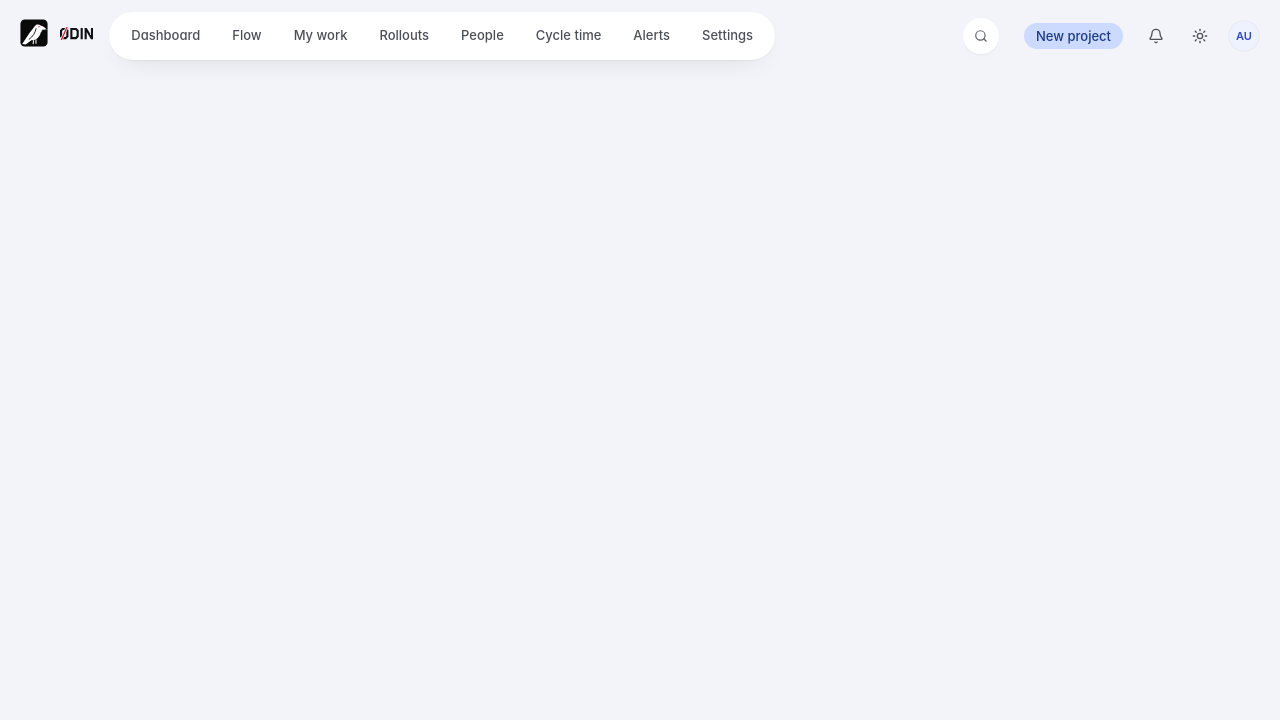
Test: the ? shortcut sheet (B6) › is switched off with the single-key shortcuts, but the account menu still opens it
Type keys "?"
Expected: the dialog "Keyboard shortcuts" is not shown
Click the button with aria-label "Your account" at (1244, 36), box [1228,20,1260,52]
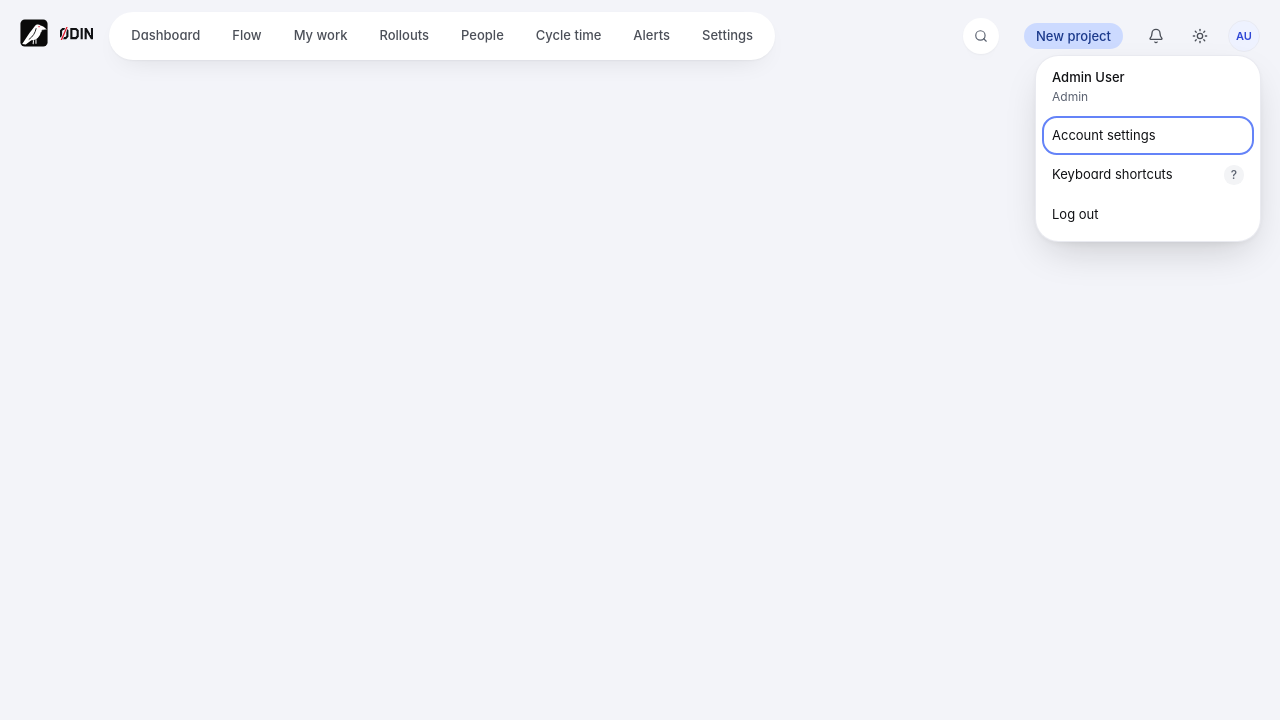
Click the button "Keyboard shortcuts ?" at (1148, 175), box [1044,157,1252,193]
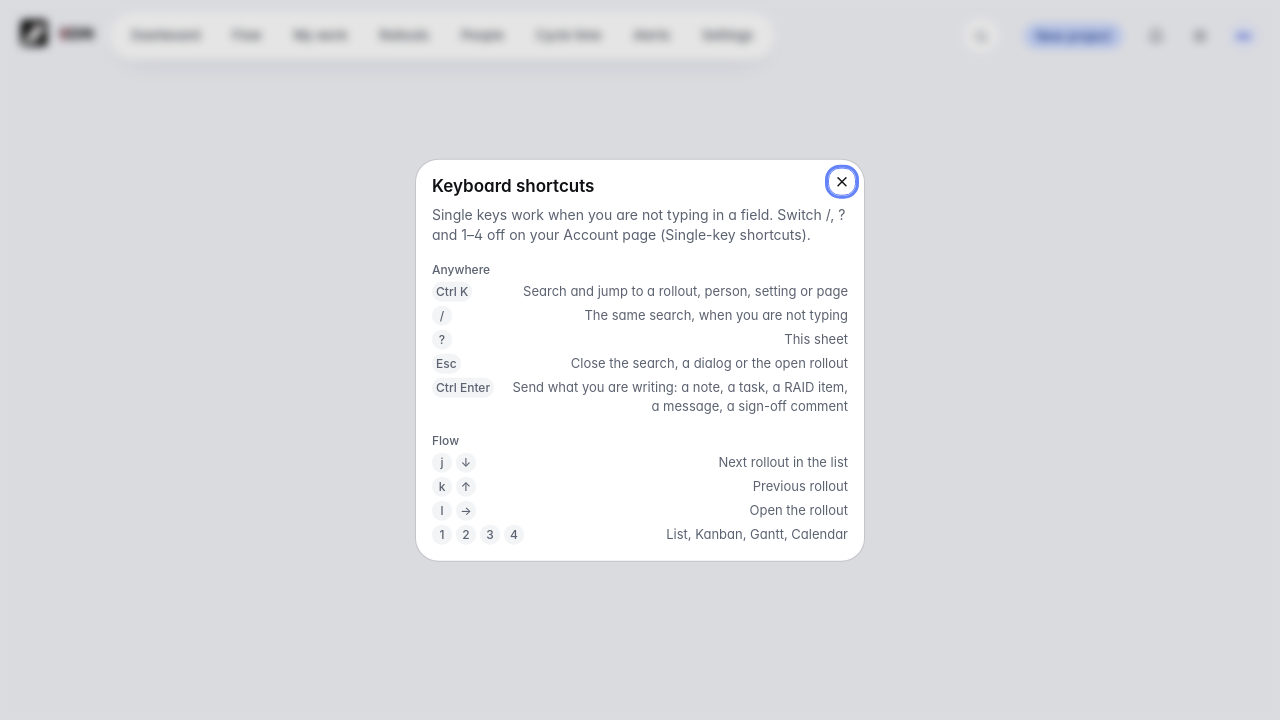
Result: the dialog "Keyboard shortcuts" is shown at [416,160,864,560]
